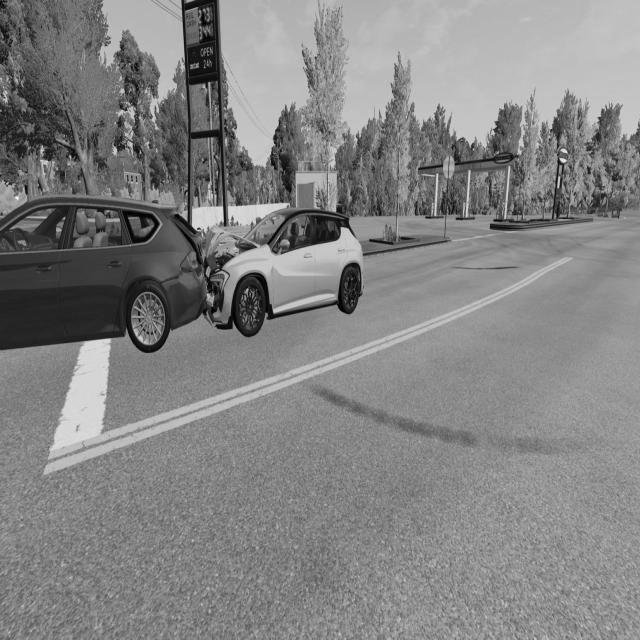accident: (0, 196, 366, 354)
